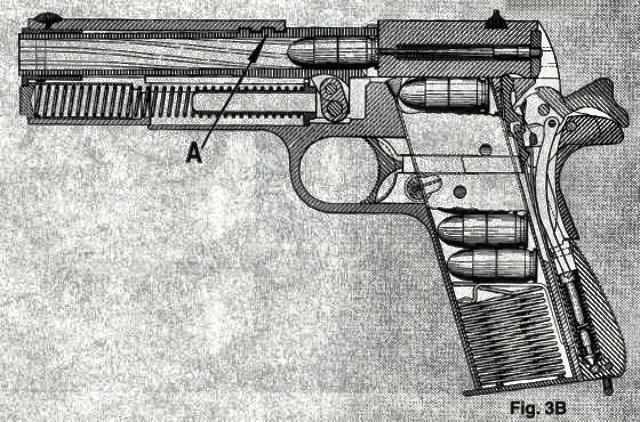pistol: (17, 9, 628, 397)
